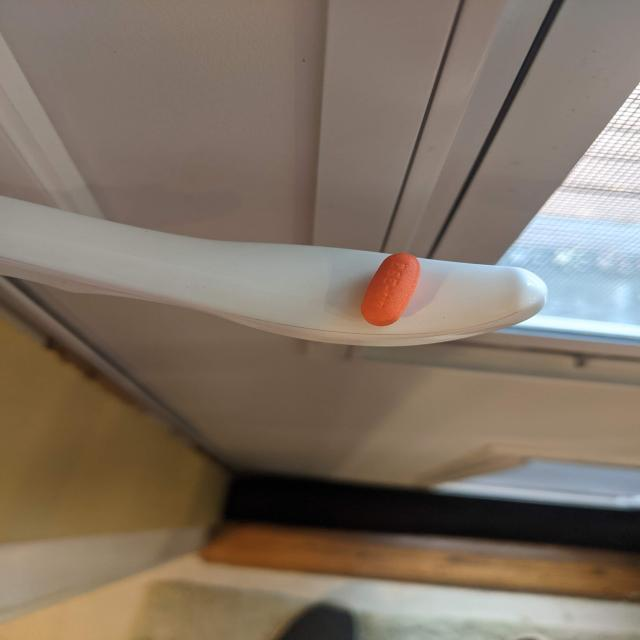non-organic waste: (359, 252, 424, 328)
